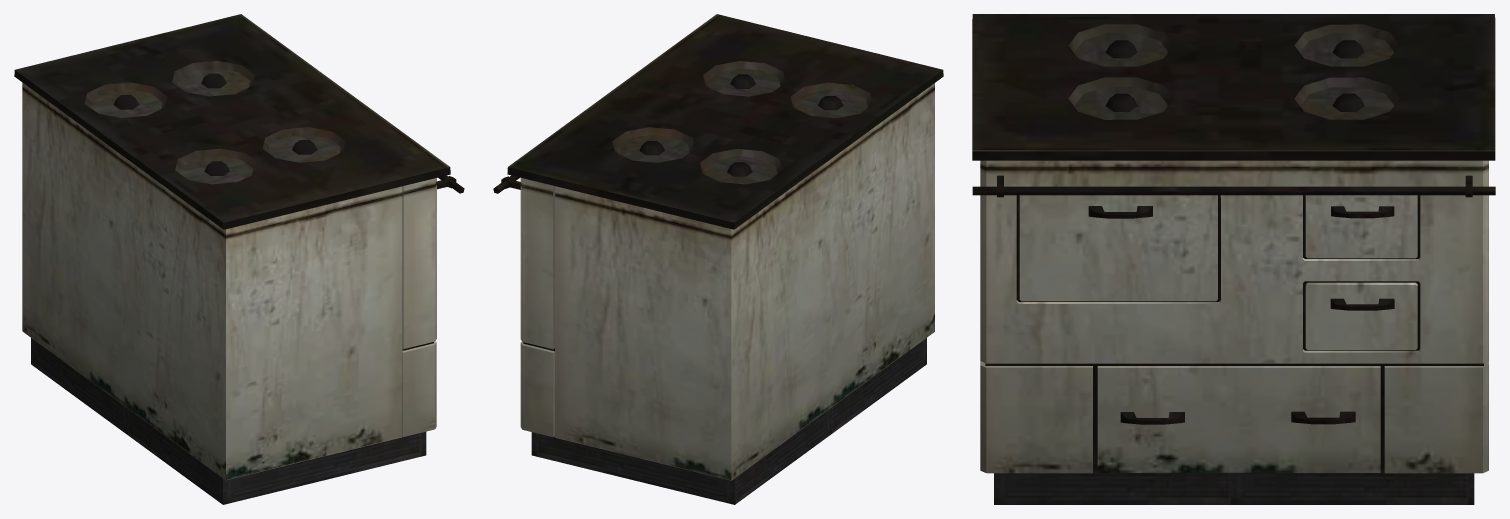
The model's file is furniturestove001a.glb.
3 views of the same model, side by side, from view 1: azimuth 30°, elevation 25°; view 2: azimuth 150°, elevation 25°; view 3: azimuth 270°, elevation 25° (orthographic). The views are drawn at different scales.
Parts seen in each view (by area): view 1: 0_FurnitureStove001a; view 2: 0_FurnitureStove001a; view 3: 0_FurnitureStove001a.
Boxes of the visible parts, bbox=[...] form: 0_FurnitureStove001a: bbox=[14, 14, 464, 504]; 0_FurnitureStove001a: bbox=[493, 14, 943, 504]; 0_FurnitureStove001a: bbox=[972, 14, 1495, 504].
Size of the model in its own units: 0.8865 by 1.02 by 1.33.
1 material, 1 textured.
